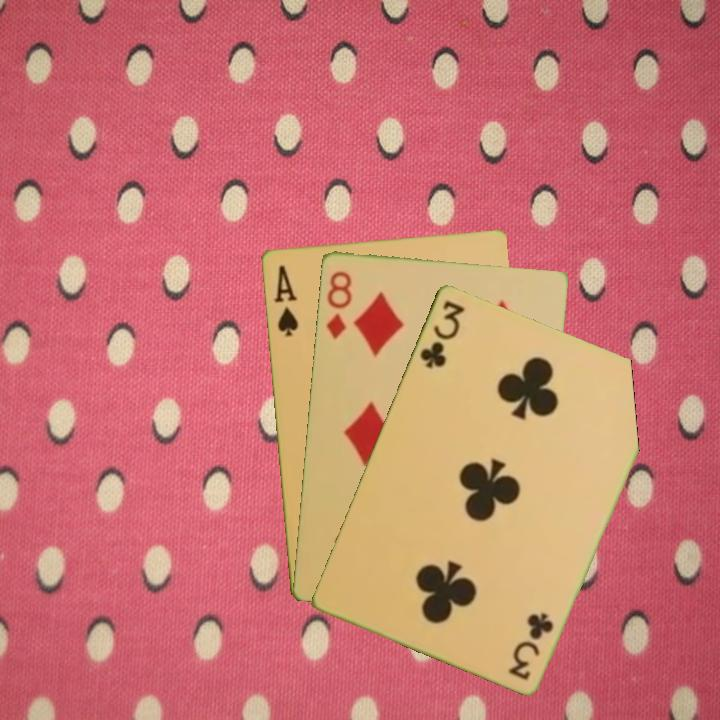3c: (416, 296, 468, 371), (507, 608, 557, 682)
8d: (322, 267, 355, 342)
As: (270, 261, 301, 339)
